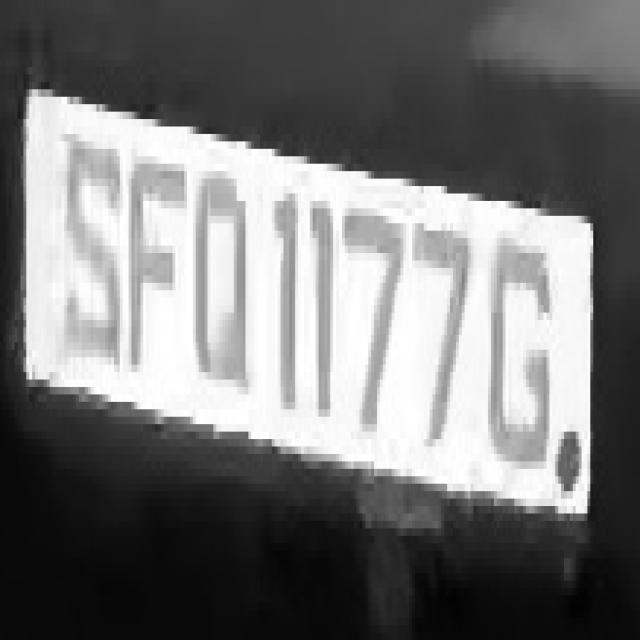1: (266, 164, 304, 454), (304, 186, 336, 476)
7: (404, 194, 476, 491), (339, 156, 403, 462)
F: (120, 134, 187, 409)
G: (485, 194, 561, 514)
Q: (193, 149, 257, 417)
S: (58, 97, 123, 394)
